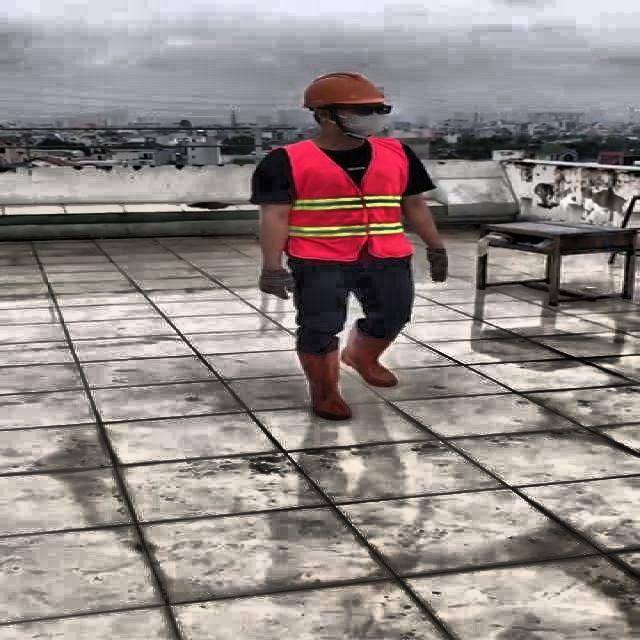safety_helmet: (294, 71, 395, 110)
safety_jacket: (279, 139, 413, 259)
